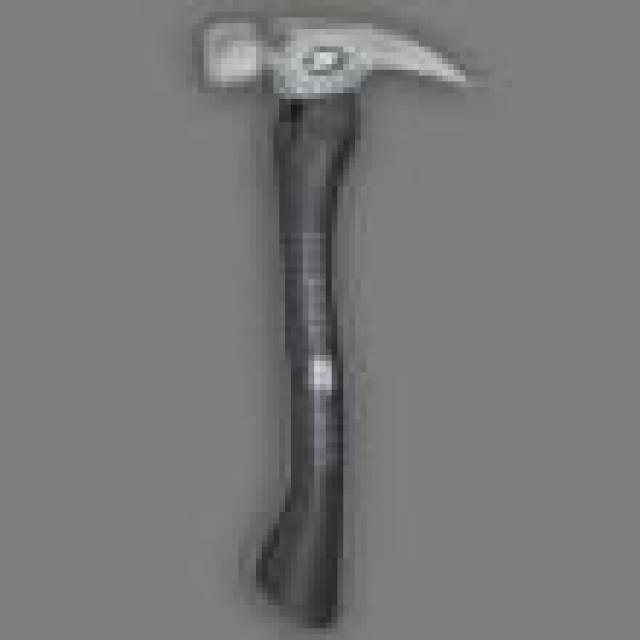hammer: (190, 5, 494, 640)
